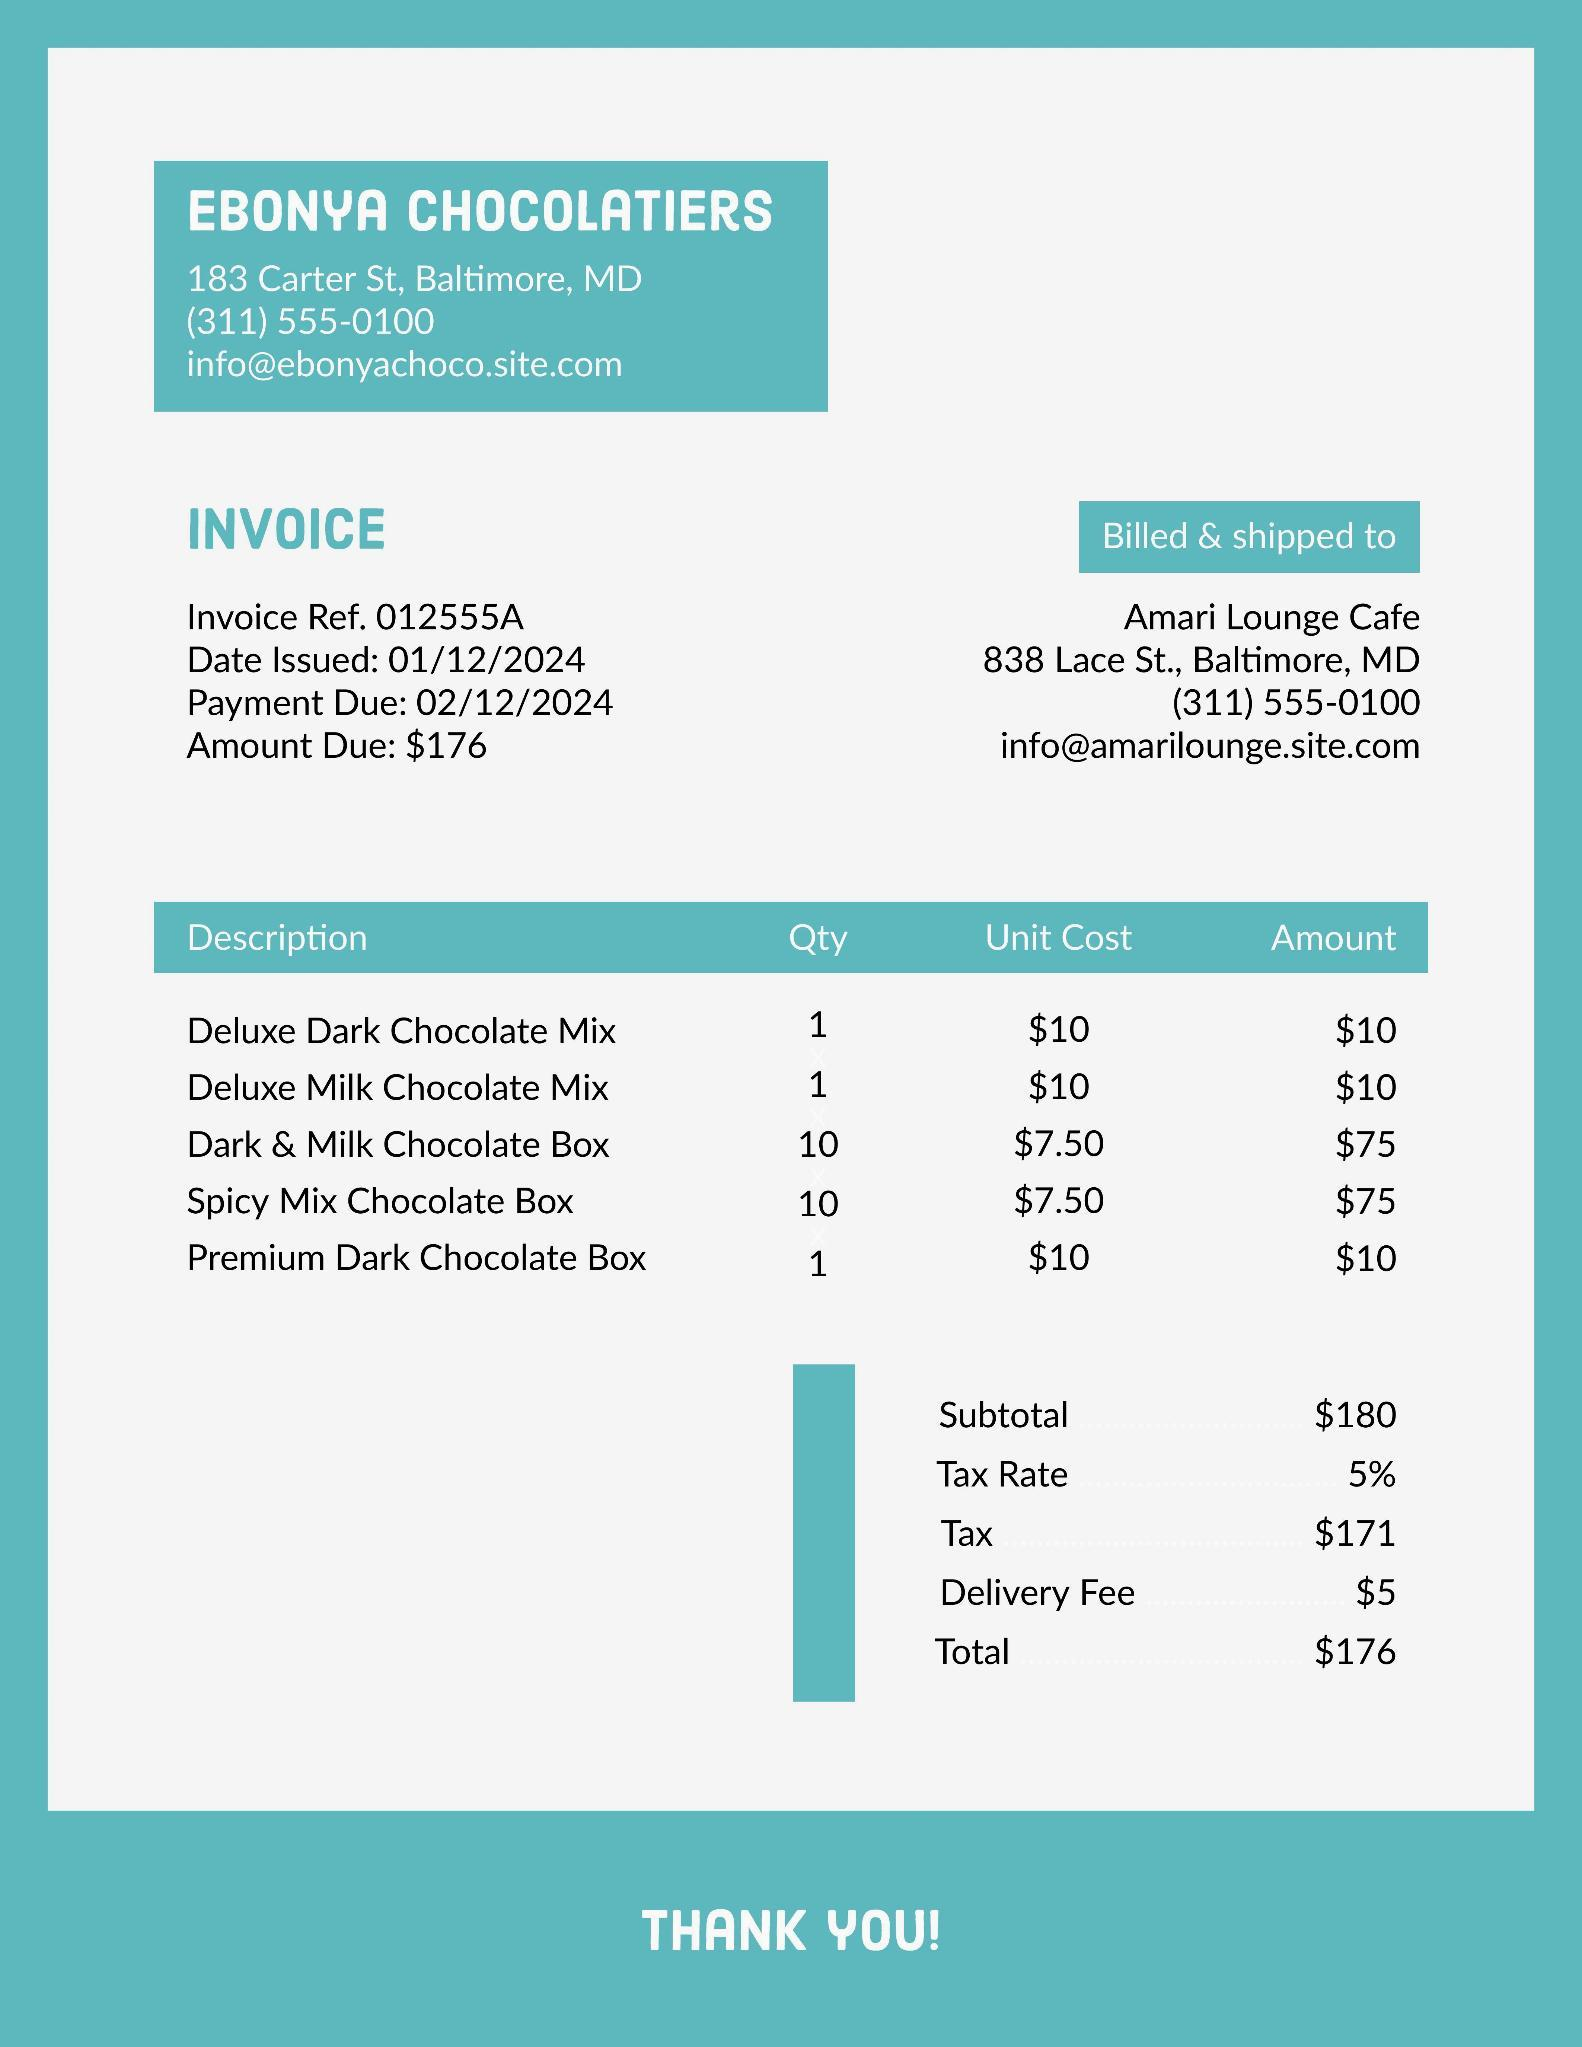ROI: (143, 892, 1454, 1313), (922, 1343, 1439, 1685), (151, 455, 650, 796), (155, 155, 803, 402), (951, 487, 1439, 789), (625, 1886, 995, 1984)
